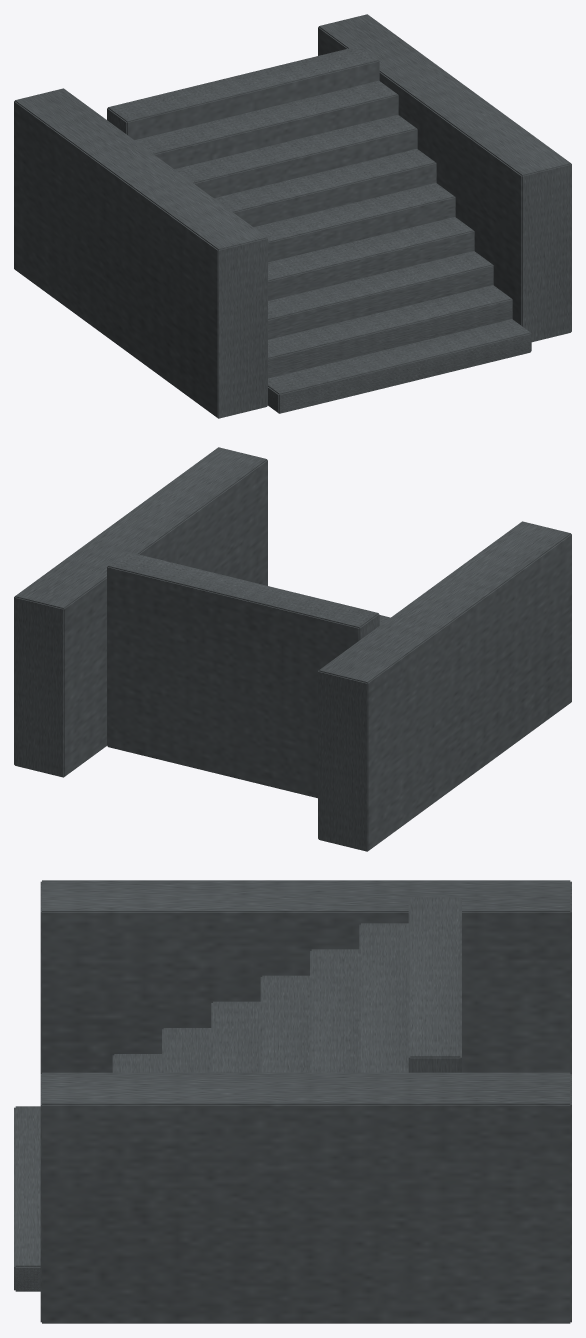
File: dungeonExit-v1.glb
3 renders of one model, top to bottom at view 1: azimuth 30°, elevation 25°; view 2: azimuth 150°, elevation 25°; view 3: azimuth 270°, elevation 25°, orthographic. The views are drawn at different scales.
Visible parts, largest first — view 1: Stair retaining wall left, Stair retaining wall right, Ascending stair 8, Ascending stair 0, Ascending stair 1, Ascending stair 7, Ascending stair 2, Ascending stair 6, Ascending stair 3, Ascending stair 5, Ascending stair 4; view 2: Stair retaining wall left, Ascending stair 8, Stair retaining wall right; view 3: Stair retaining wall right, Stair retaining wall left, Ascending stair 8, Ascending stair 7, Ascending stair 6, Ascending stair 0, Ascending stair 5, Ascending stair 4, Ascending stair 3, Ascending stair 2.
Boxes of the visible parts, x1=… form: Stair retaining wall left: x1=14, y1=88, x2=267, y2=418; Stair retaining wall right: x1=318, y1=14, x2=571, y2=342; Ascending stair 8: x1=107, y1=46, x2=379, y2=140; Ascending stair 0: x1=268, y1=319, x2=531, y2=413; Ascending stair 1: x1=268, y1=285, x2=512, y2=378; Ascending stair 7: x1=135, y1=80, x2=398, y2=169; Ascending stair 2: x1=268, y1=251, x2=493, y2=339; Ascending stair 6: x1=174, y1=115, x2=417, y2=198; Ascending stair 3: x1=268, y1=217, x2=474, y2=300; Ascending stair 5: x1=214, y1=149, x2=436, y2=227; Ascending stair 4: x1=254, y1=183, x2=455, y2=262; Stair retaining wall left: x1=318, y1=521, x2=571, y2=851; Ascending stair 8: x1=107, y1=552, x2=379, y2=798; Stair retaining wall right: x1=14, y1=447, x2=267, y2=777; Stair retaining wall right: x1=40, y1=1072, x2=571, y2=1323; Stair retaining wall left: x1=40, y1=880, x2=571, y2=1073; Ascending stair 8: x1=408, y1=897, x2=461, y2=1072; Ascending stair 7: x1=359, y1=923, x2=408, y2=1072; Ascending stair 6: x1=310, y1=949, x2=359, y2=1072; Ascending stair 0: x1=14, y1=1106, x2=40, y2=1291; Ascending stair 5: x1=260, y1=975, x2=309, y2=1072; Ascending stair 4: x1=211, y1=1001, x2=260, y2=1072; Ascending stair 3: x1=162, y1=1028, x2=211, y2=1072; Ascending stair 2: x1=112, y1=1054, x2=161, y2=1072.
Size of what is drawn, in the model's own units: 7 by 3.42 by 7.35.
11 materials, 11 textured.
